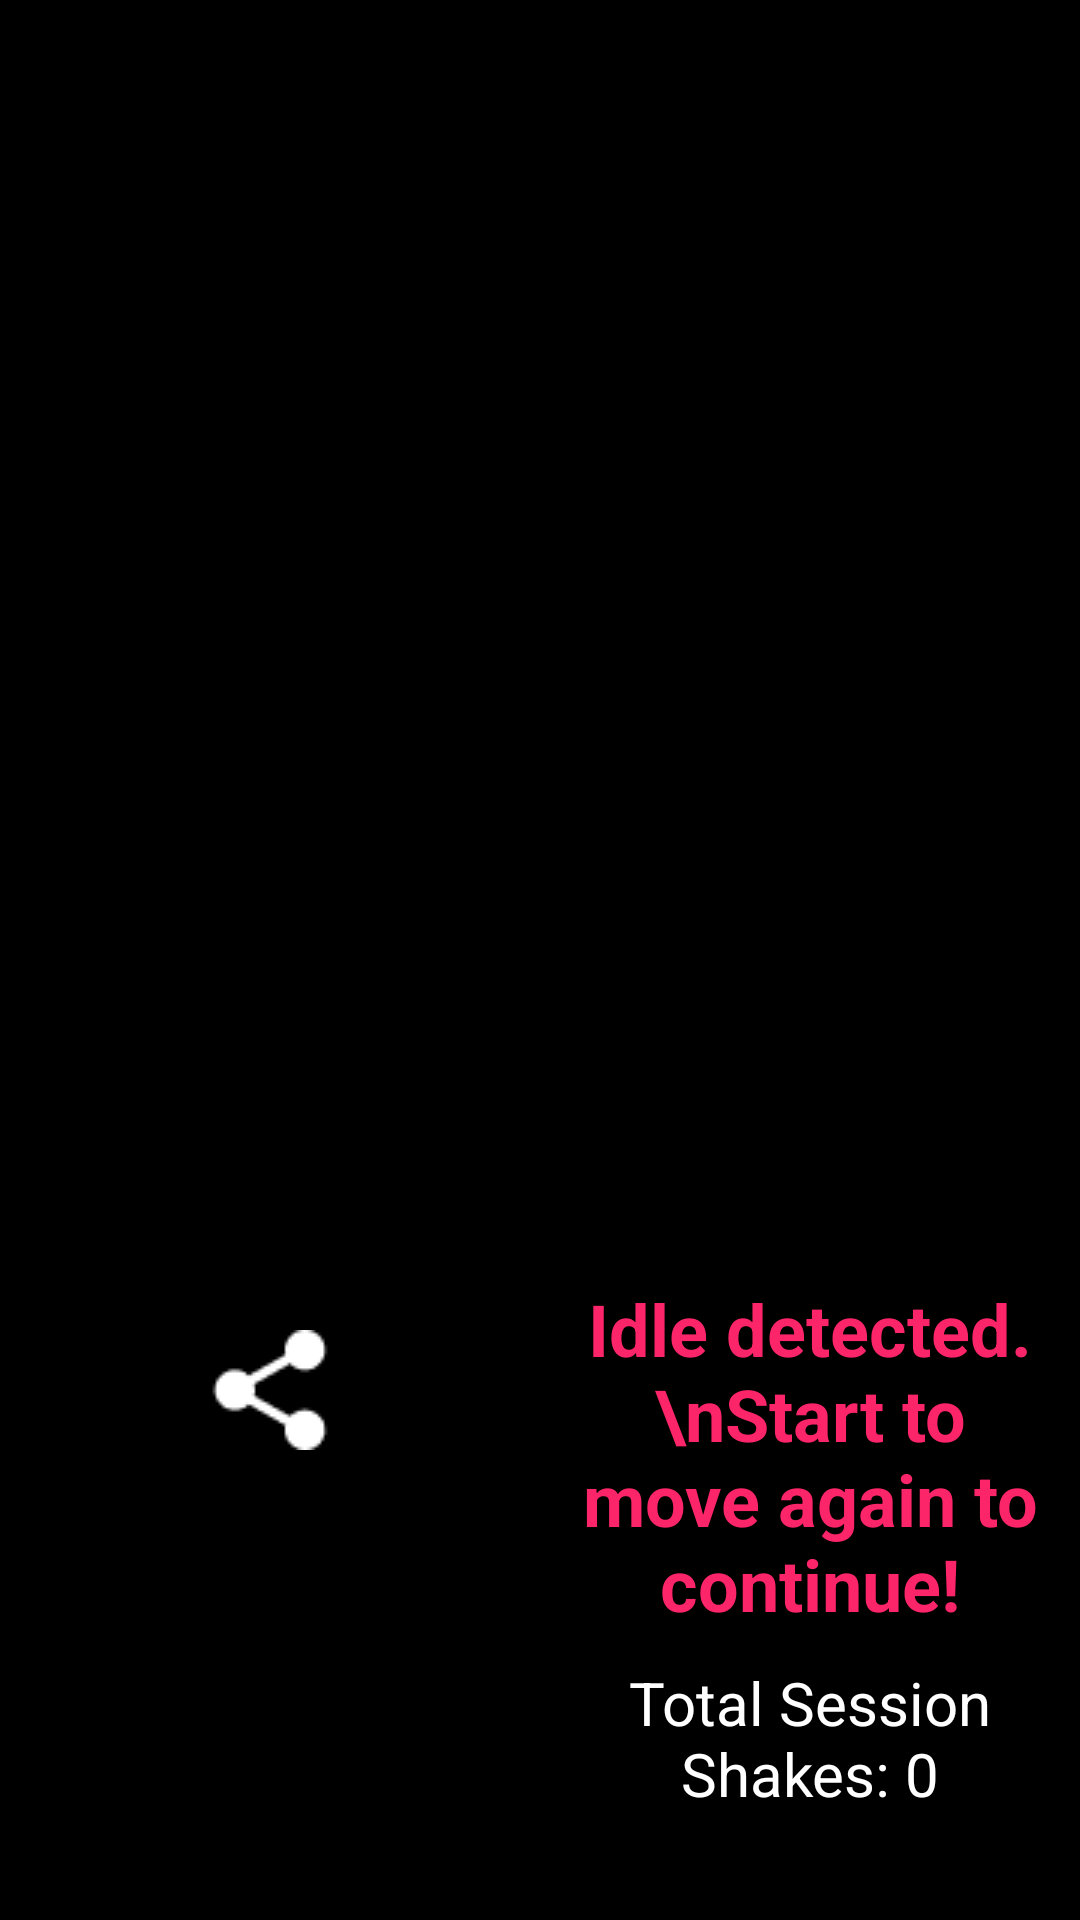

Locate icon controls on the screen. Image size 1080x1920, boxes as region(x1, y1, x2, y2).
share: region(212, 1330, 327, 1450)
